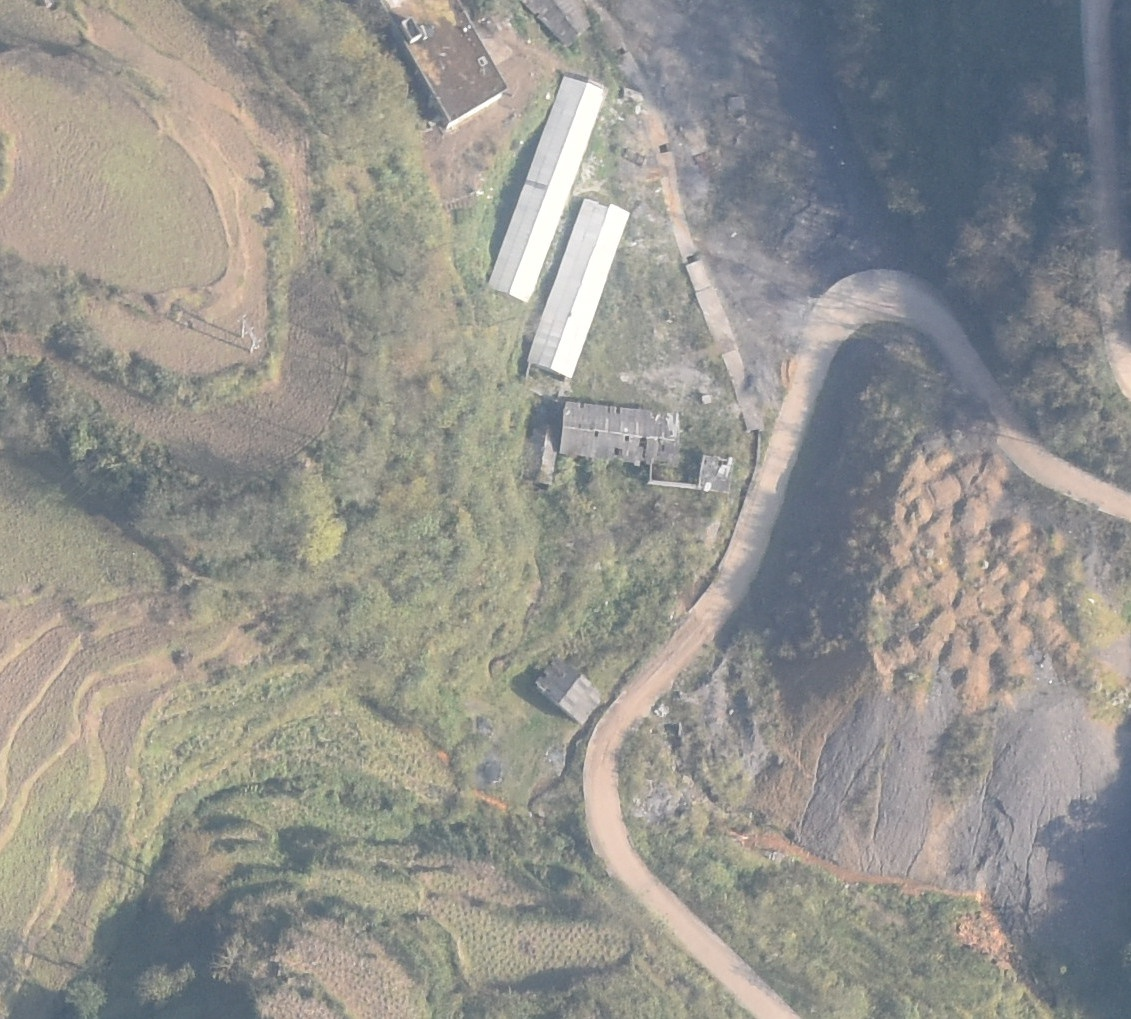building: (485, 73, 610, 303), (528, 200, 630, 379), (558, 402, 682, 467), (521, 420, 561, 485), (698, 454, 735, 495)
cable-tower: (535, 658, 603, 725), (237, 314, 262, 353)
